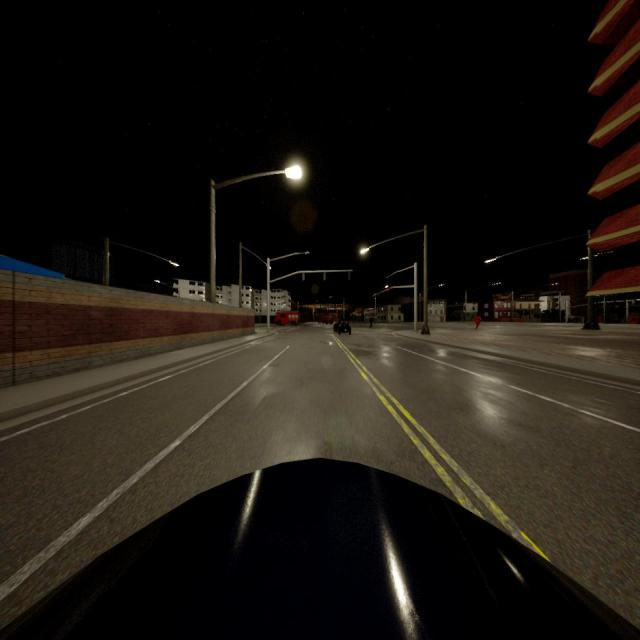Pedestrian: (474, 313, 480, 329), (370, 316, 372, 328)
Vehicle: (1, 460, 640, 640), (275, 311, 299, 325), (334, 321, 350, 335), (322, 314, 338, 324)
traffic_light: (348, 272, 351, 280), (302, 272, 305, 280), (324, 272, 326, 280), (386, 288, 389, 291), (378, 292, 380, 295)
